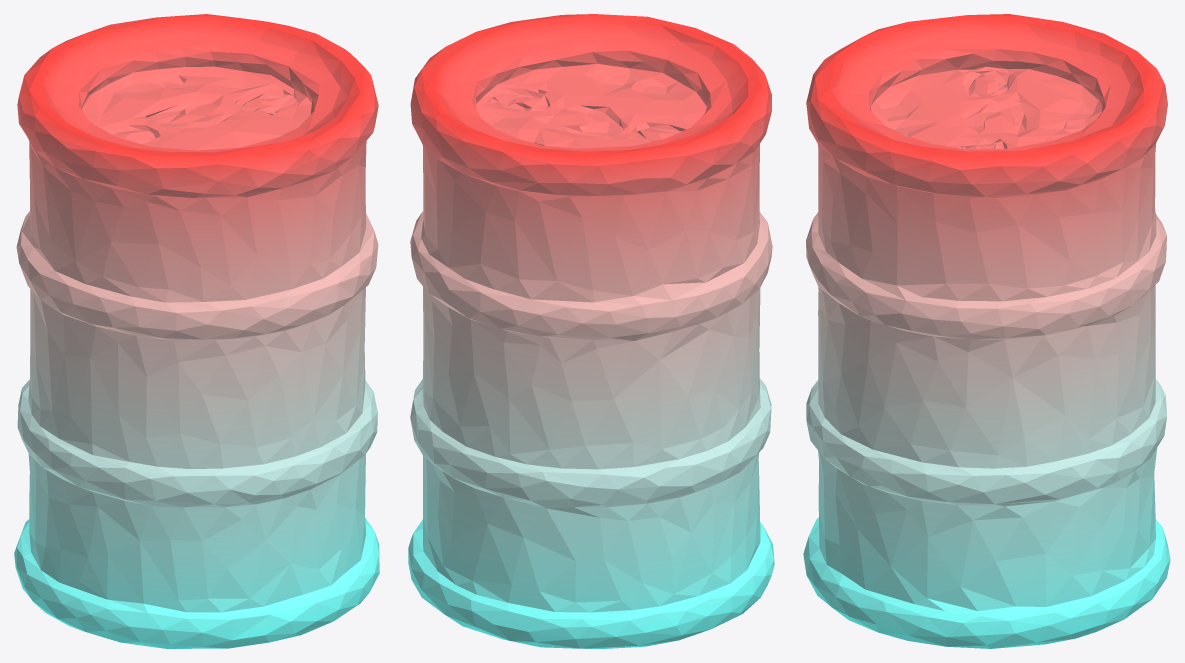
Rendered from 143_cyb_laser_gradient_fish_scales_2914_2026_10_03_2888bd.glb.
3 views of the same model, side by side, from view 1: azimuth 30°, elevation 25°; view 2: azimuth 150°, elevation 25°; view 3: azimuth 270°, elevation 25° (orthographic).
Parts seen in each view (by area): view 1: geometry_0; view 2: geometry_0; view 3: geometry_0.
Boxes of the visible parts, <box> form: geometry_0: <box>14,14,379,648</box>; geometry_0: <box>408,14,774,648</box>; geometry_0: <box>803,14,1170,648</box>.
Bounding box in the file's own units: 0.675 × 1 × 0.6764.
